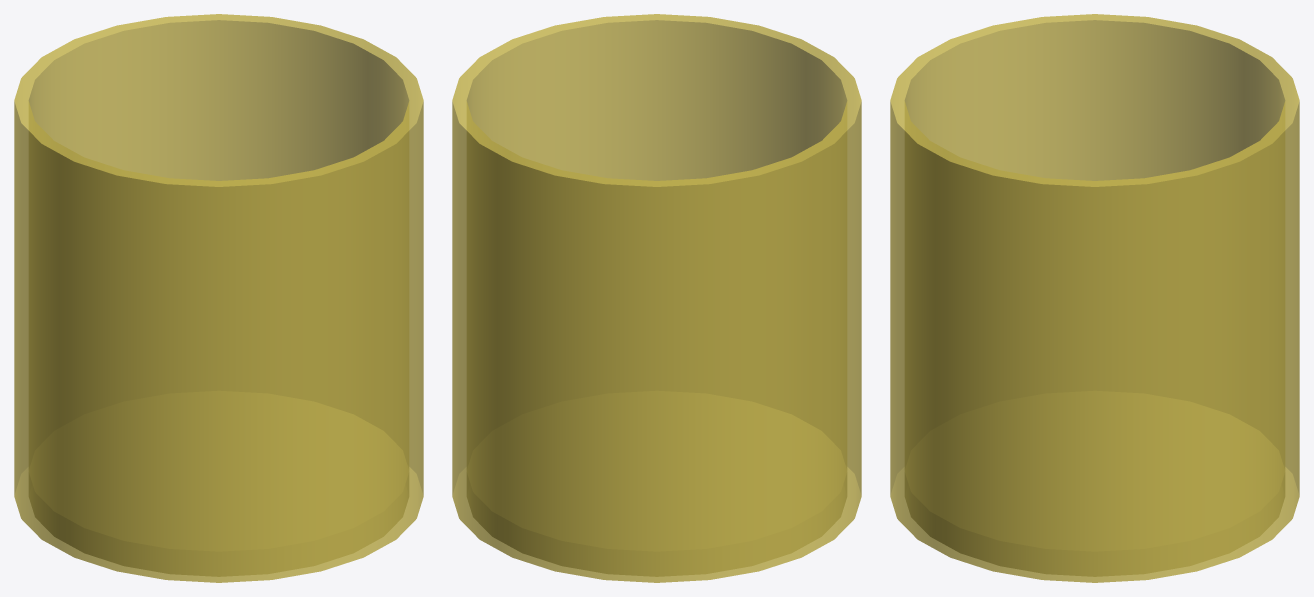
File: yellow.dae
3 views of the same model, side by side, from view 1: azimuth 30°, elevation 25°; view 2: azimuth 150°, elevation 25°; view 3: azimuth 270°, elevation 25° (orthographic).
Visible parts, largest first — view 1: SketchUp (×3); view 2: SketchUp (×3); view 3: SketchUp (×3).
Boxes of the visible parts, x1,y1,x2,y2 form: SketchUp (×3): [14, 14, 423, 582]; SketchUp (×3): [452, 14, 861, 582]; SketchUp (×3): [890, 14, 1299, 582].
Bounding box in the file's own units: 2.95 × 2.95 × 3.15.
1 material, 1 textured.
